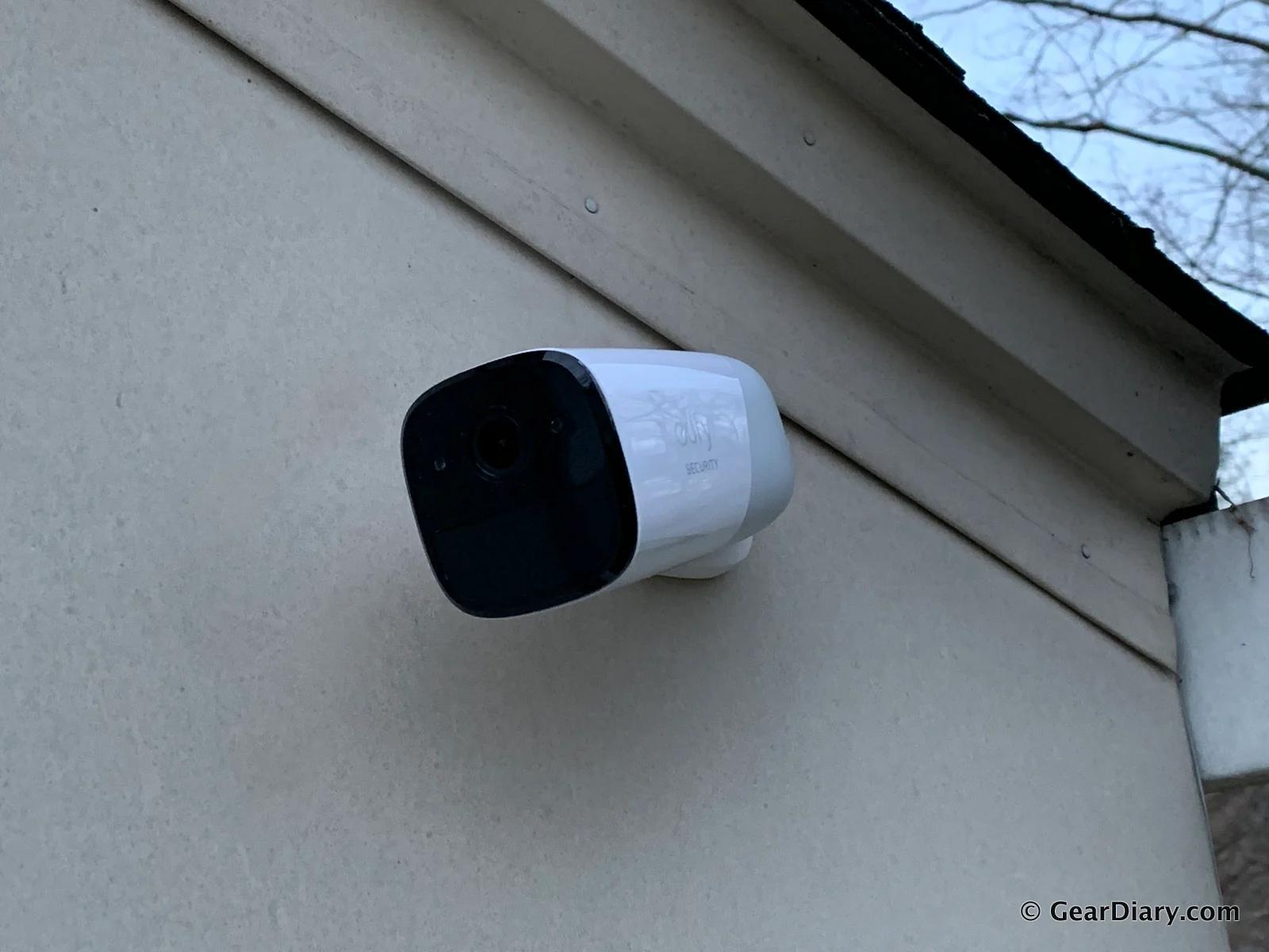camera: (339, 267, 880, 704)
